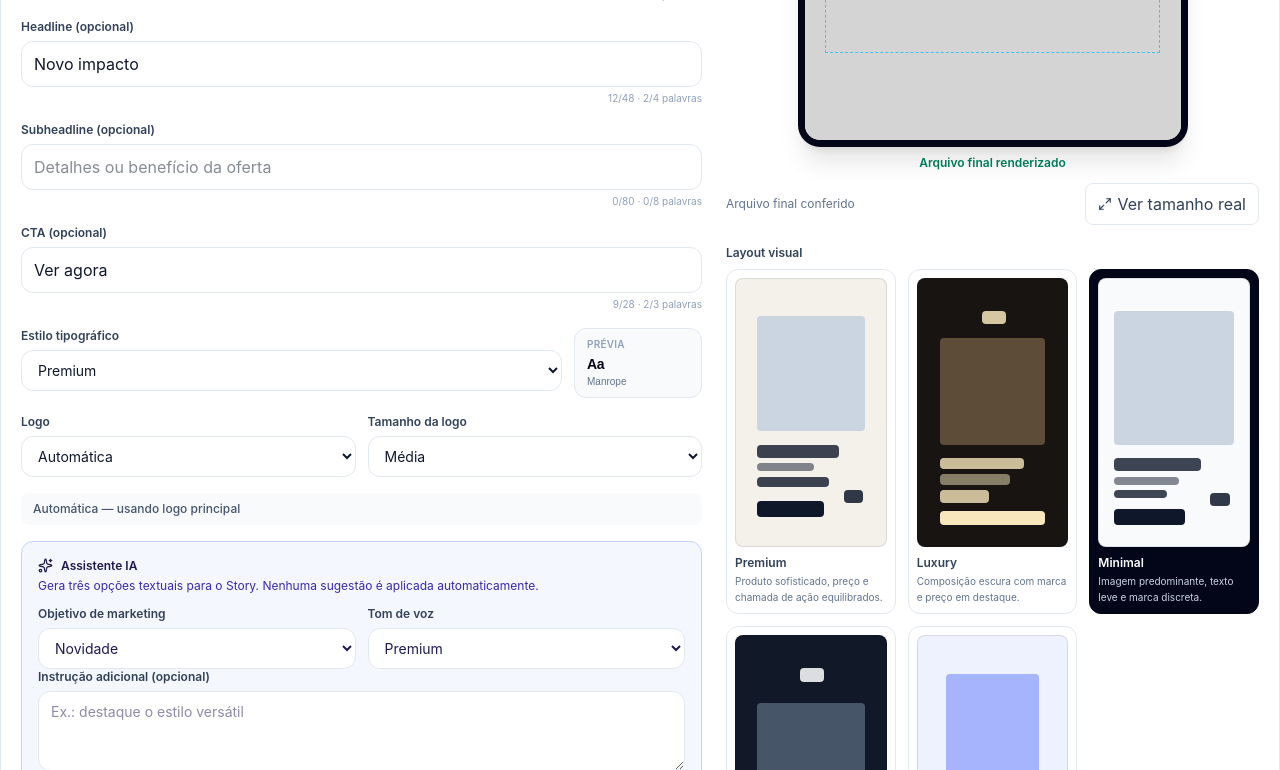
StoryComposer › updates the local preview with a closed typography preset and marks an existing Story stale
(page scrolled)
Select "Impacto" in the dropdown labelled "Estilo tipográfico" at [292, 370], box [21,350,562,391]
(page scrolled)
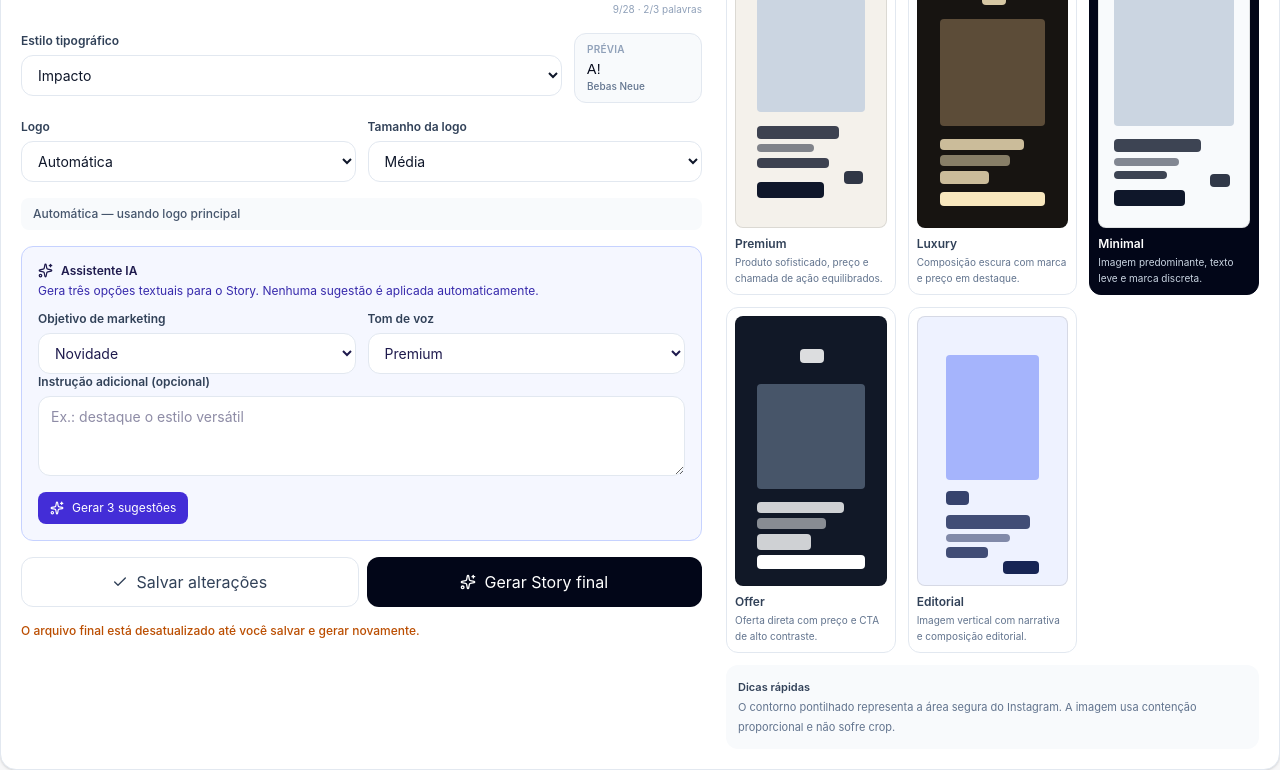
Expected: the text "O arquivo final está desatualizado até você salvar e gerar novamente." is shown, [21,623,420,638]
